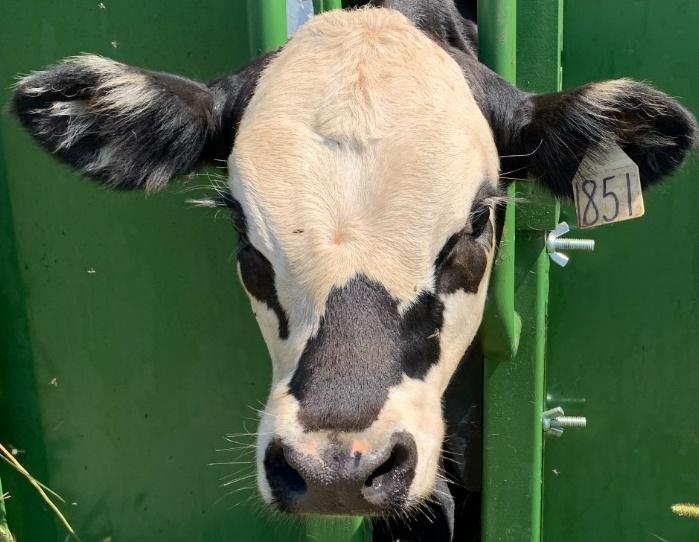muzzles: (245, 419, 442, 529)
